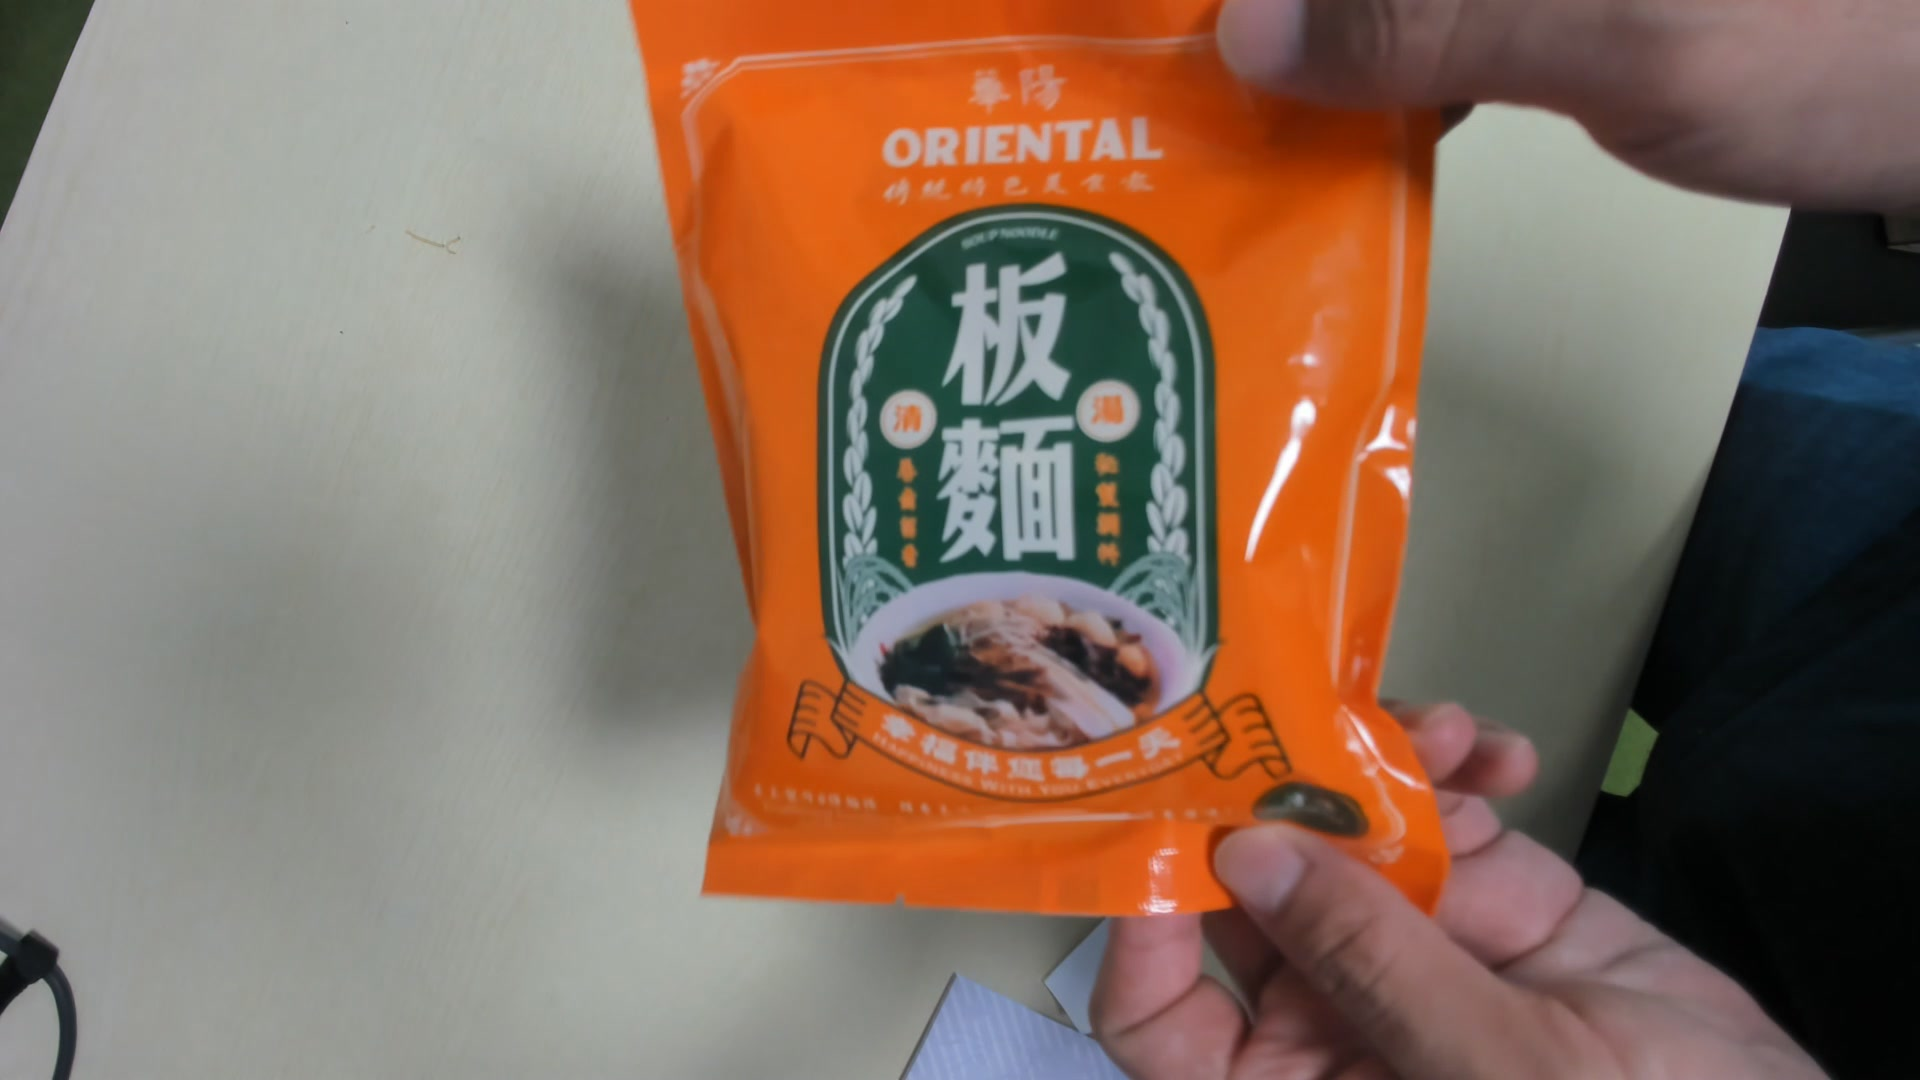InstantMeals_100-199g_NonHalal_Healthy: (647, 7, 1455, 922)
